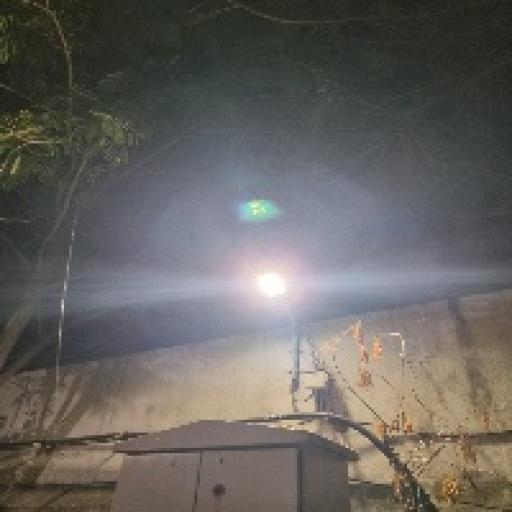Working: (250, 264, 292, 306)
